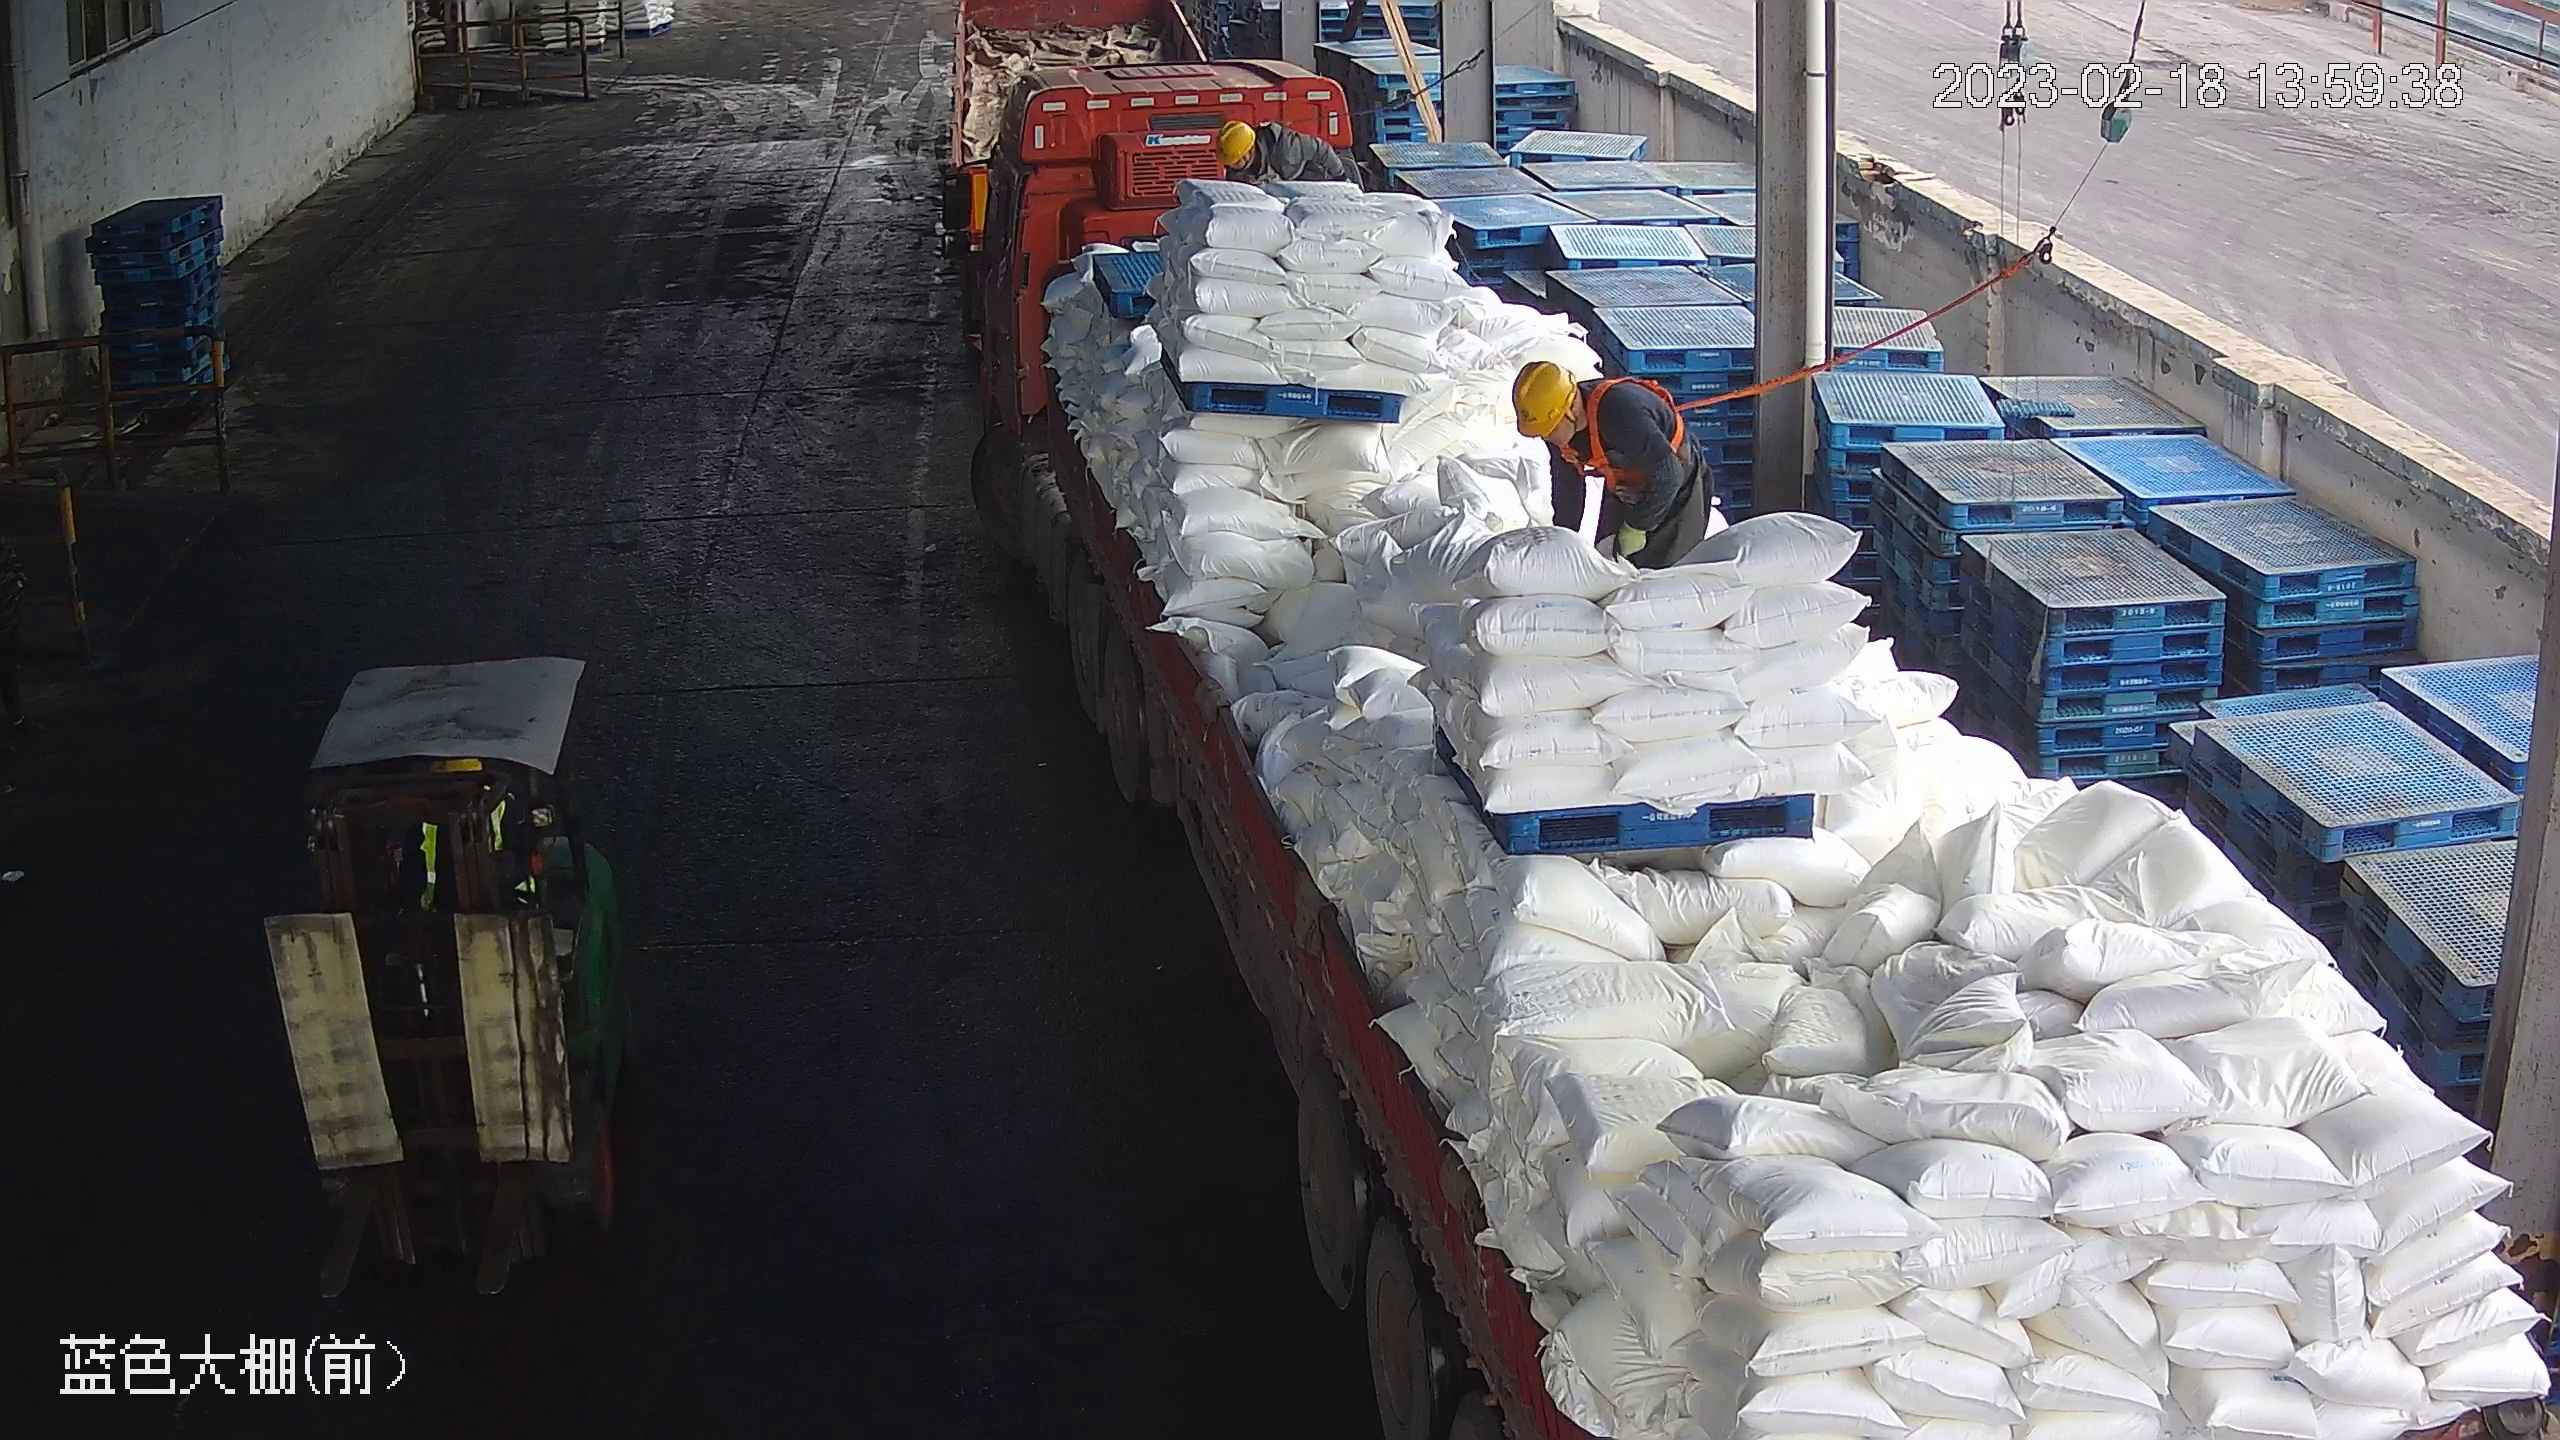belt: (1563, 370, 1698, 494)
head: (1508, 356, 1654, 463), (1212, 119, 1305, 170)
helmet: (1508, 356, 1576, 439), (1216, 118, 1258, 163)
people: (1510, 358, 1714, 571)
truck: (936, 57, 2554, 1439)
